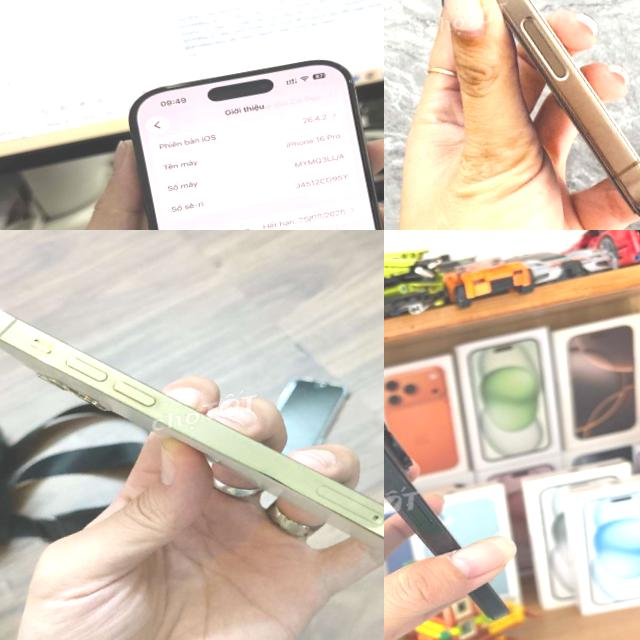scratch: (384, 441, 416, 520)
